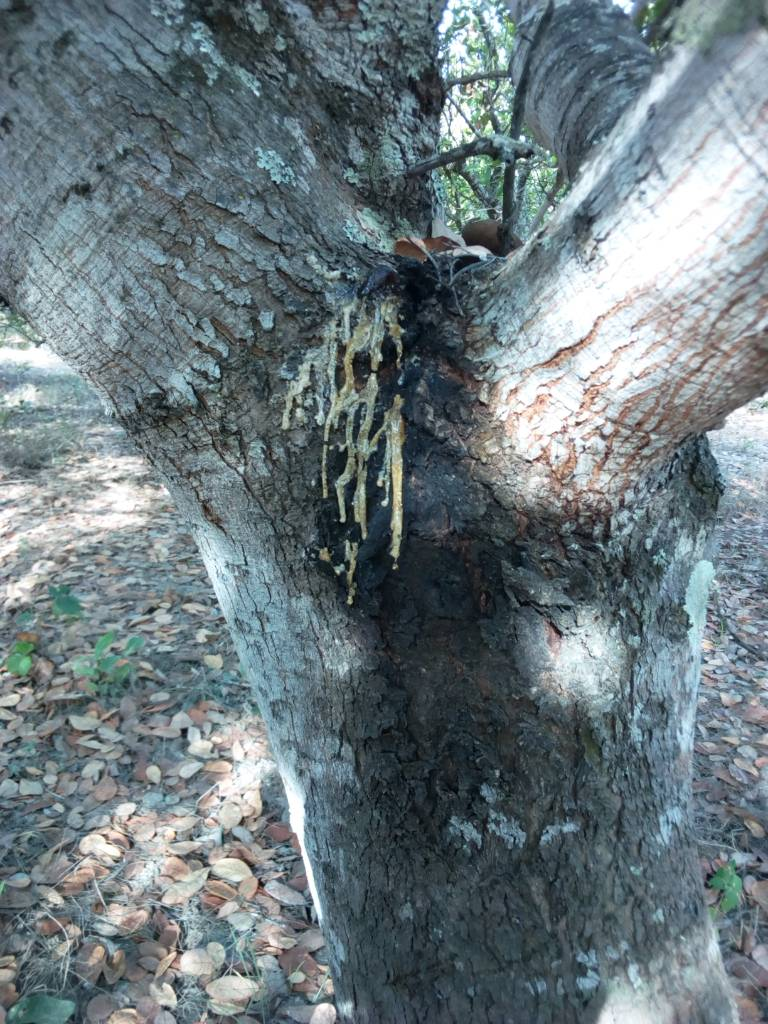Mecocorynus longiceps: (246, 273, 461, 574)
